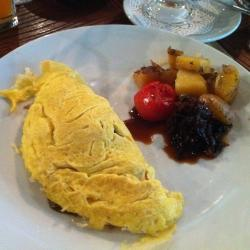omelette: (13, 61, 185, 237)
